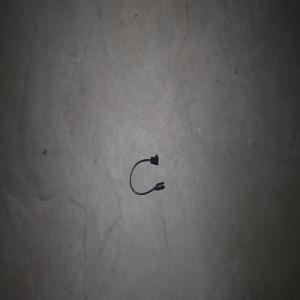Wire: (129, 154, 165, 195)
